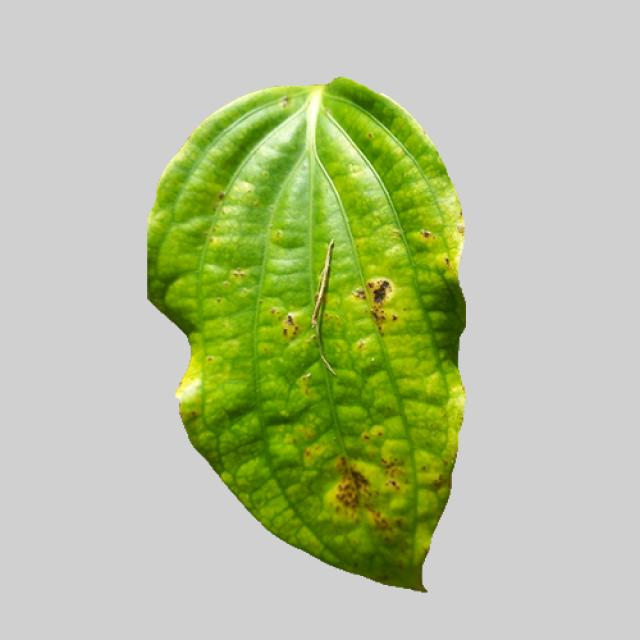yellow-mottle-virus: (138, 85, 482, 590)
